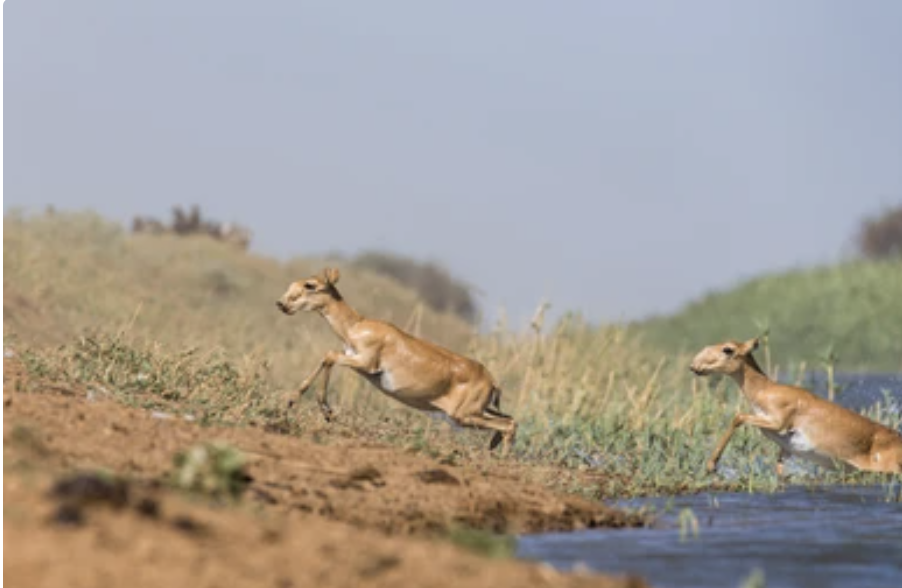saiga: (275, 257, 559, 473), (681, 323, 902, 501)
